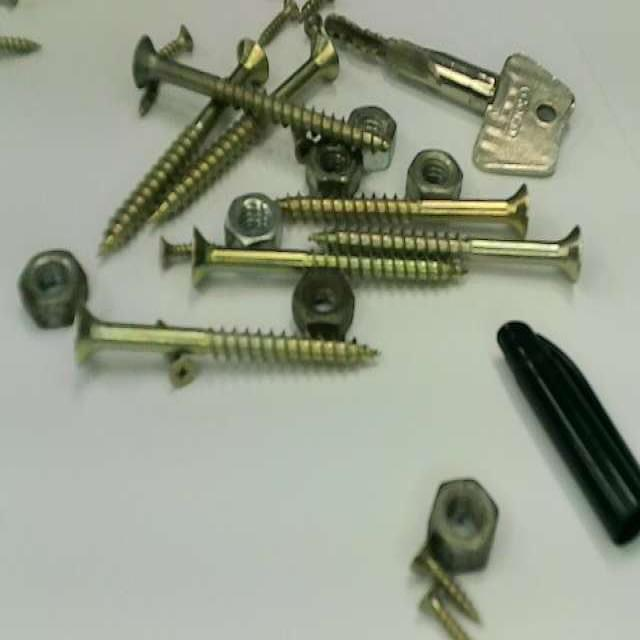Parafuso: (133, 36, 388, 151), (99, 100, 225, 255), (75, 308, 377, 365), (187, 228, 464, 286), (309, 226, 581, 281), (150, 112, 273, 225), (277, 184, 528, 237), (414, 547, 479, 622), (421, 588, 470, 639), (258, 0, 299, 47), (159, 26, 193, 57), (160, 238, 192, 269), (168, 352, 196, 387), (298, 0, 333, 22)
Porca: (414, 479, 498, 573), (19, 250, 87, 329), (292, 270, 354, 341), (306, 142, 363, 198), (224, 194, 281, 249), (349, 106, 396, 171), (405, 150, 462, 199)
